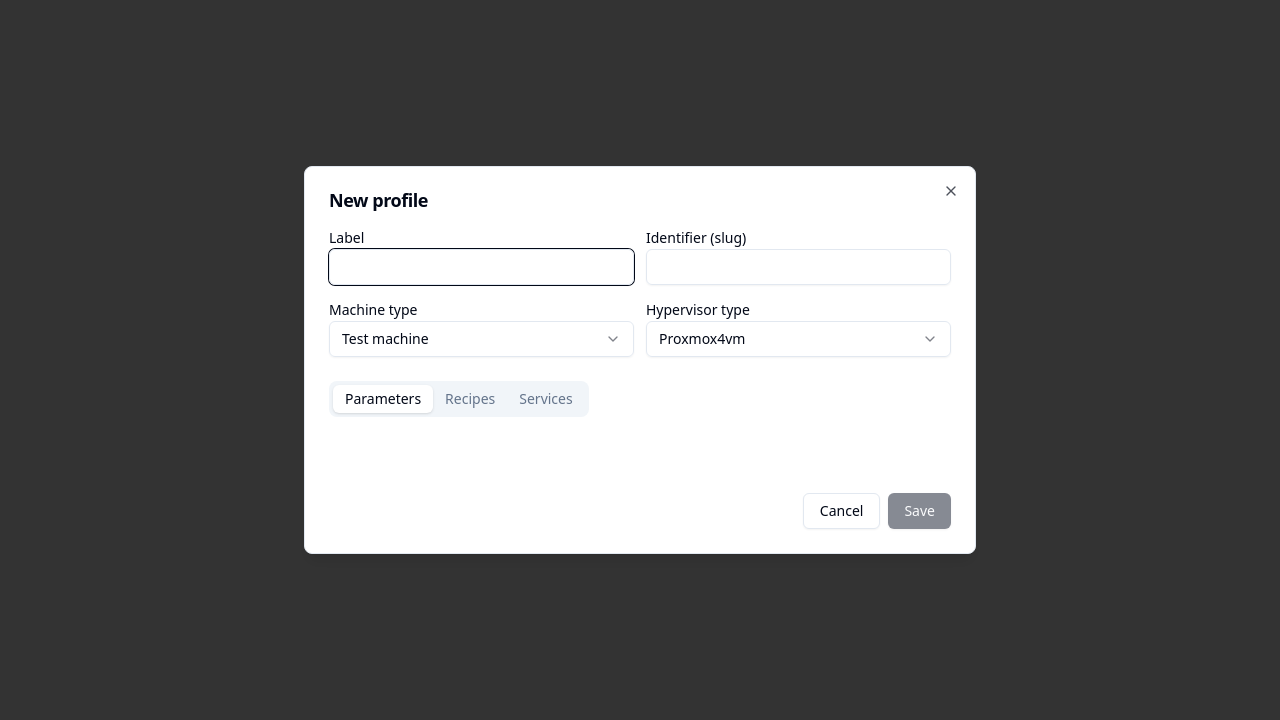
Test case: MachineProfileEditor — slug derive du libelle › preremplit le slug pendant la saisie du libelle
In the field below "Label": coordinates (482, 267) [329,249,634,285], type "Machine Android"
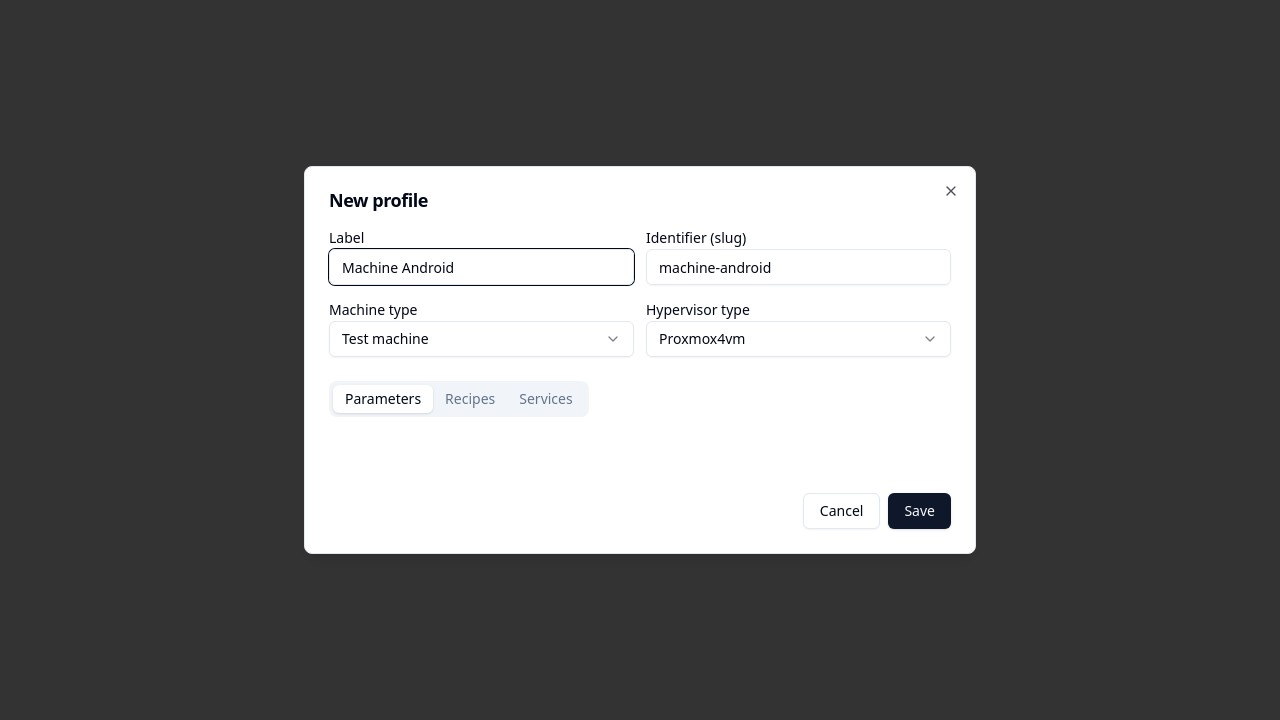
Check: the field below "Identifier (slug)" holds "machine-android", box [646,249,951,285]
